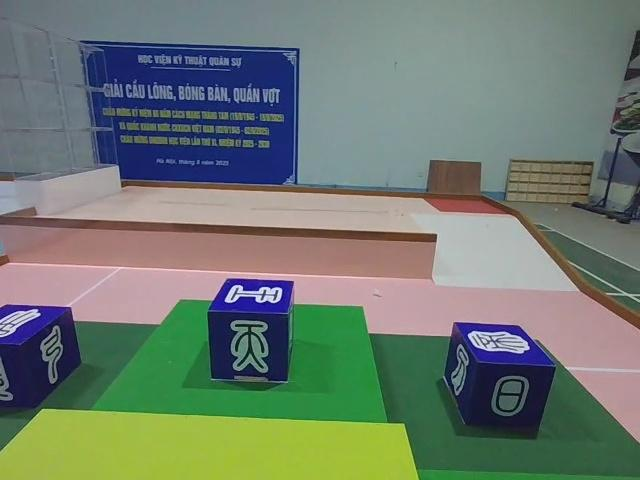R2 Fake Blue: (443, 323, 556, 437), (208, 278, 298, 384), (0, 308, 80, 418)
